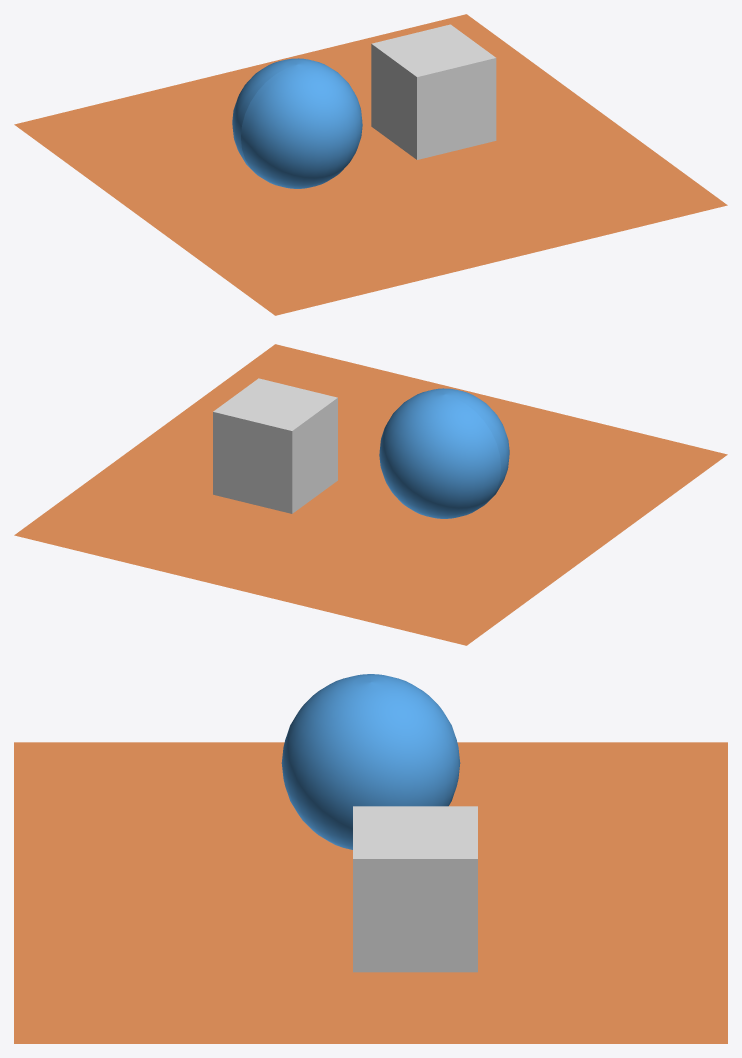
The model's file is docs__demos__blender-x3d-io__v1__scenes__lights-before.glb.
3 views of the same model, one above another, from view 1: azimuth 30°, elevation 25°; view 2: azimuth 150°, elevation 25°; view 3: azimuth 270°, elevation 25° (orthographic). The views are drawn at different scales.
Parts seen in each view (by area): view 1: ME_Plane, ME_Cube, ME_Sphere; view 2: ME_Plane, ME_Cube, ME_Sphere; view 3: ME_Plane, ME_Sphere, ME_Cube.
Boxes of the visible parts, x1,y1,x2,y2 form: ME_Plane: (14,14,727,315); ME_Cube: (371,24,496,159); ME_Sphere: (232,58,362,188); ME_Plane: (14,344,727,645); ME_Cube: (213,378,337,513); ME_Sphere: (379,388,509,518); ME_Plane: (14,742,727,1043); ME_Sphere: (281,674,460,849); ME_Cube: (353,806,477,972).
Size of the model in its own units: 8 by 2 by 8.
